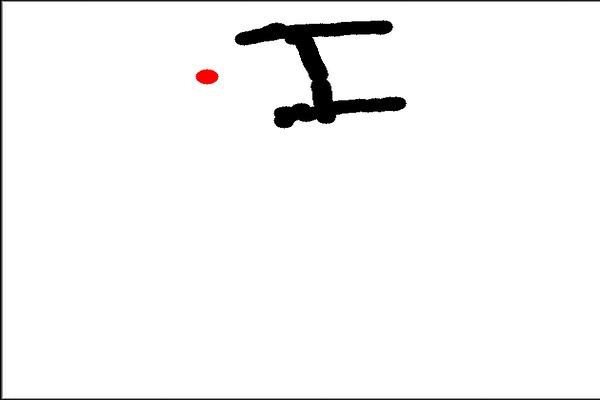i: (232, 12, 413, 134)
